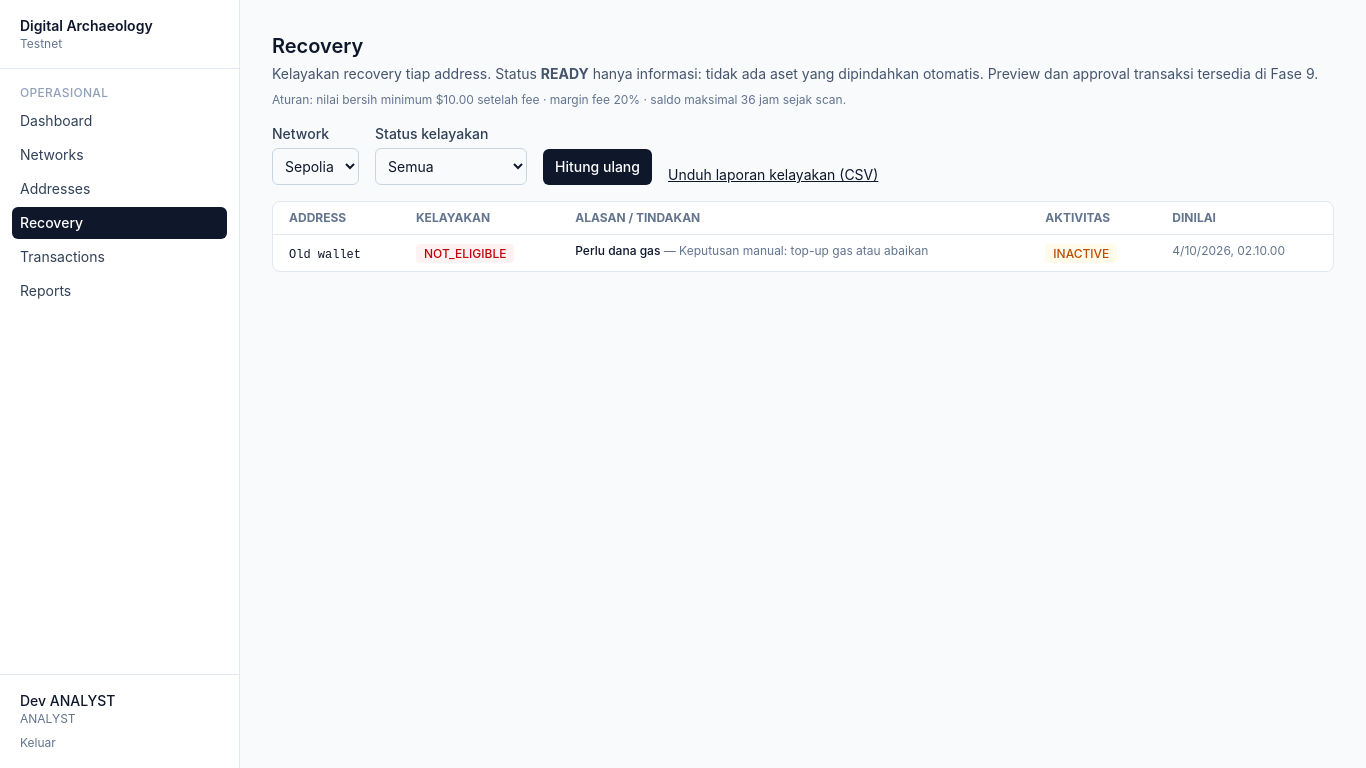
Test: Recovery page › lets ANALYST re-evaluate a network and shows the summary
This screenshot has width=1366, height=768.
Step 1. Click the button "Hitung ulang" → (598, 167), box [543,149,652,185]
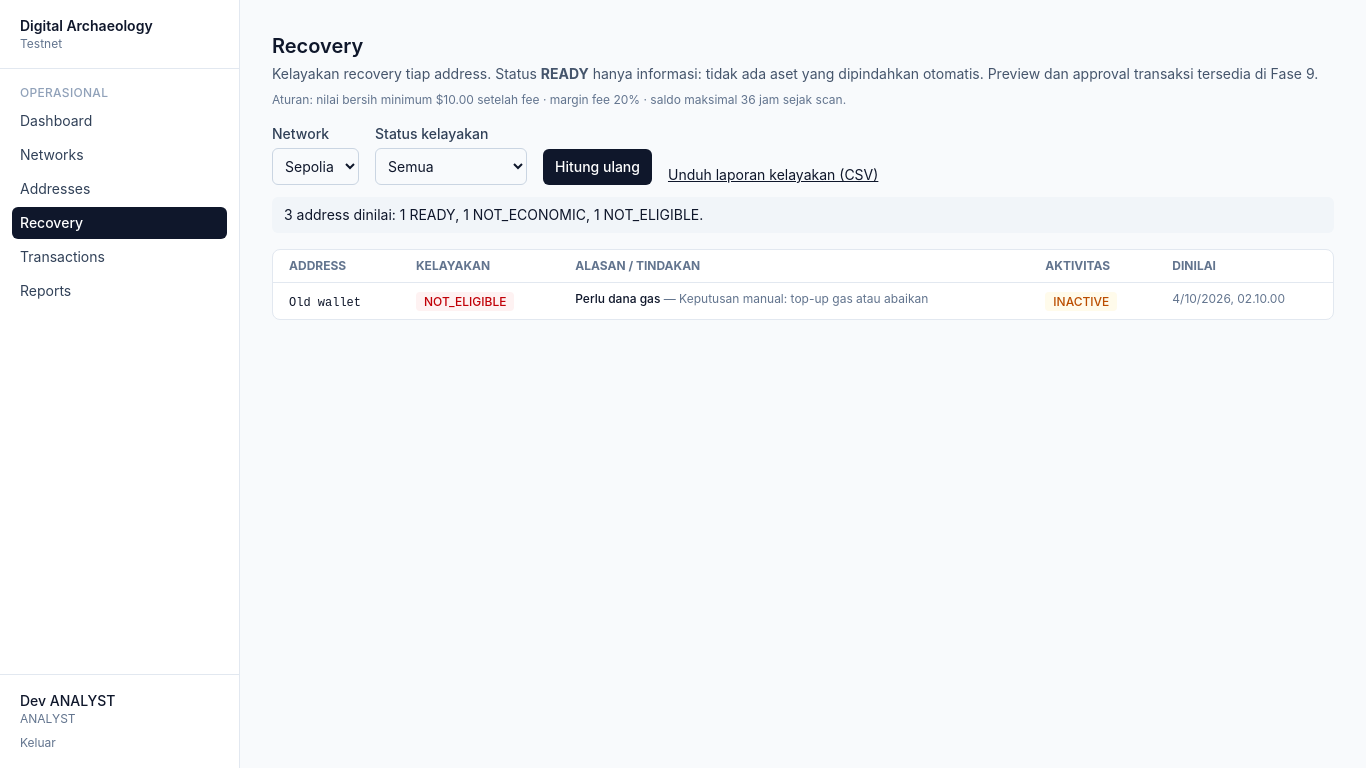
Expected: the message shows "3 address dinilai: 1 READY, 1 NOT_ECONOMIC, 1 NOT_ELIGIBLE", [272,197,1334,233]
